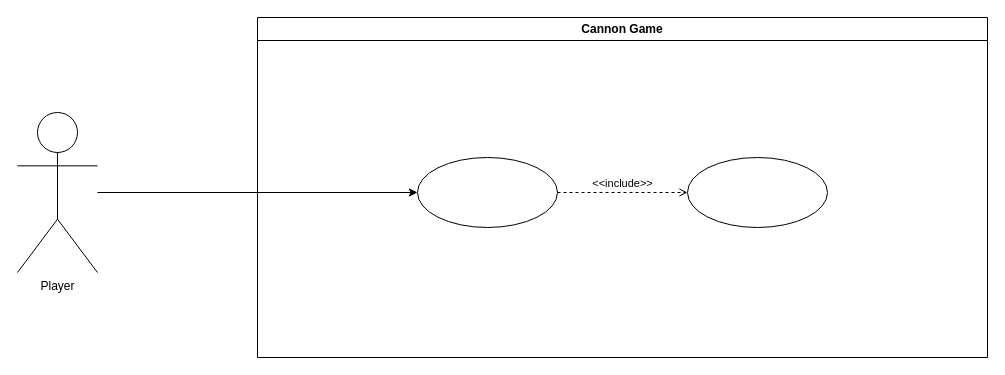
Some shapes in this 1005 by 375 pixel diagram are drawn without their labels. Each missing label, with the centre of its shape:
"Display Score Screen" goes at (x=757, y=192).
"Game Ends" goes at (x=487, y=192).
